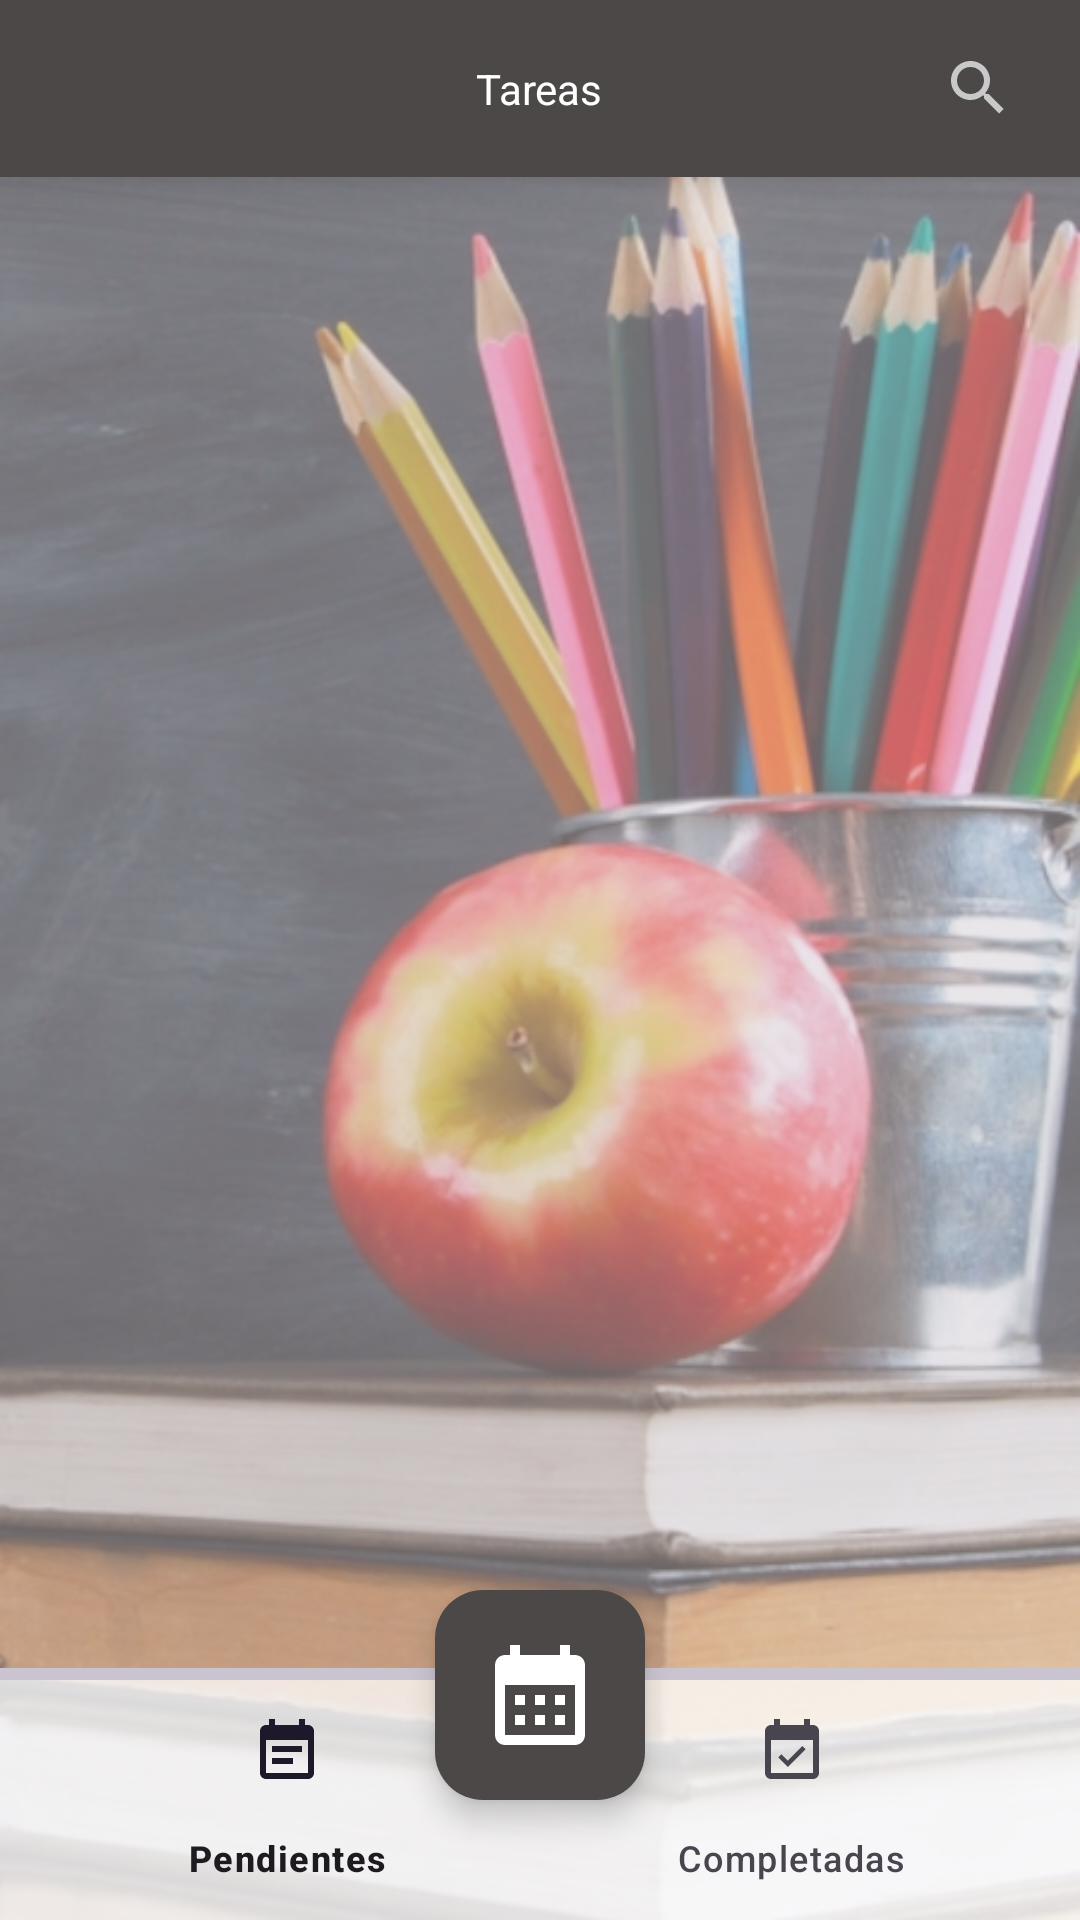

Icons on this 1080px x 1920px Android screen, each with the point to tap as point (x, y):
tasks calendar: point (540, 1695)
